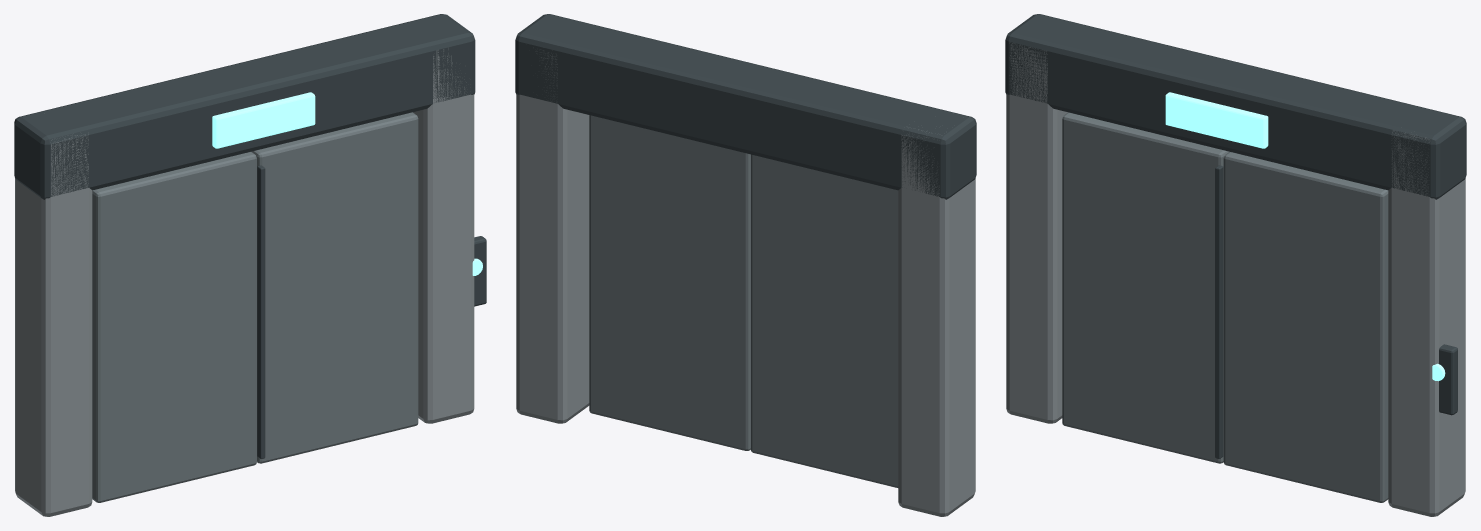
File: ElevatorFront_A.fbx
The picture shows the model from 3 angles, left to right: view 1: azimuth 30°, elevation 25°; view 2: azimuth 150°, elevation 25°; view 3: azimuth 330°, elevation 25°; orthographic projection.
Visible parts, largest first — view 1: Elevator Left Door, Elevator Right Door, Elevator Header, Elevator Left Frame, Elevator Right Frame, Elevator Floor Indicator, Elevator Door Seam, Elevator Call Panel; view 2: Elevator Right Door, Elevator Left Door, Elevator Header, Elevator Left Frame, Elevator Right Frame; view 3: Elevator Right Door, Elevator Left Door, Elevator Header, Elevator Right Frame, Elevator Left Frame, Elevator Floor Indicator, Elevator Door Seam, Elevator Call Panel.
Part boxes in pixels (bbox=[...]): Elevator Left Door: bbox=[92, 152, 256, 502]; Elevator Right Door: bbox=[251, 112, 418, 463]; Elevator Header: bbox=[14, 14, 475, 199]; Elevator Left Frame: bbox=[15, 134, 92, 516]; Elevator Right Frame: bbox=[413, 48, 474, 423]; Elevator Floor Indicator: bbox=[212, 92, 315, 148]; Elevator Door Seam: bbox=[257, 165, 265, 458]; Elevator Call Panel: bbox=[474, 236, 486, 306]; Elevator Right Door: bbox=[589, 115, 750, 450]; Elevator Left Door: bbox=[751, 154, 898, 487]; Elevator Header: bbox=[515, 14, 976, 199]; Elevator Left Frame: bbox=[898, 129, 975, 516]; Elevator Right Frame: bbox=[516, 47, 589, 423]; Elevator Right Door: bbox=[1223, 151, 1388, 502]; Elevator Left Door: bbox=[1062, 112, 1228, 463]; Elevator Header: bbox=[1005, 14, 1466, 199]; Elevator Right Frame: bbox=[1388, 130, 1465, 516]; Elevator Left Frame: bbox=[1006, 42, 1067, 423]; Elevator Floor Indicator: bbox=[1165, 92, 1268, 148]; Elevator Door Seam: bbox=[1215, 165, 1223, 458]; Elevator Call Panel: bbox=[1439, 344, 1457, 415].
Size of the model in its own units: 5.15 by 4.2 by 0.75.
